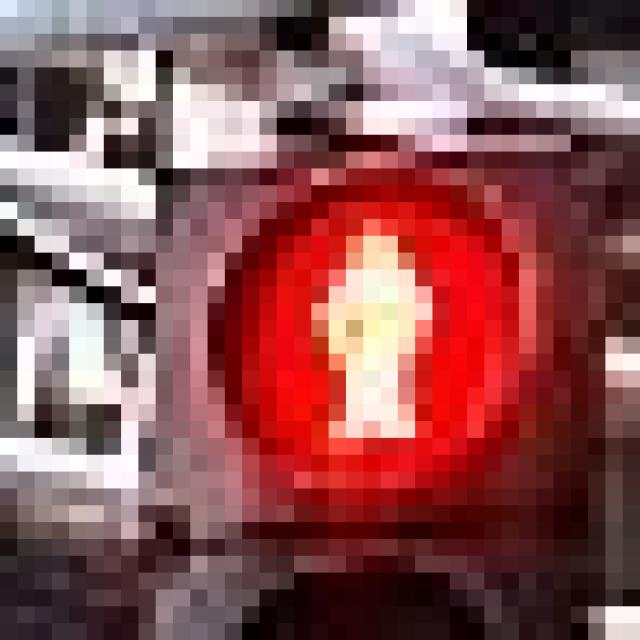red_light: (225, 168, 484, 472)
